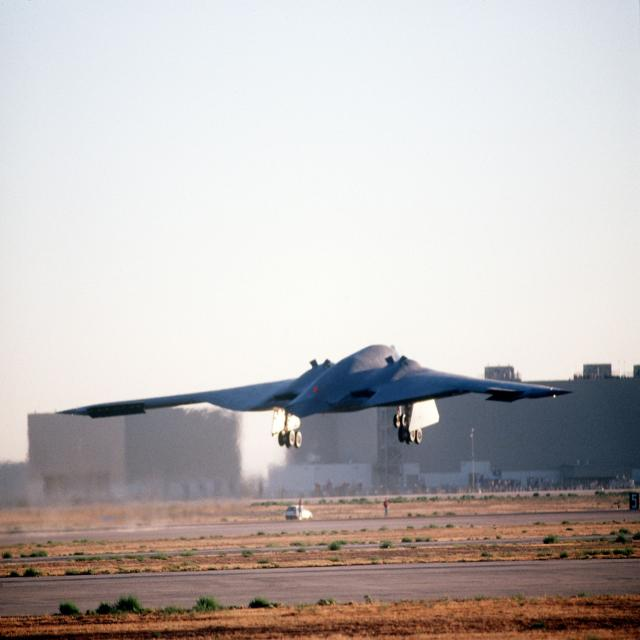MIL_Plane: (55, 344, 574, 449)
